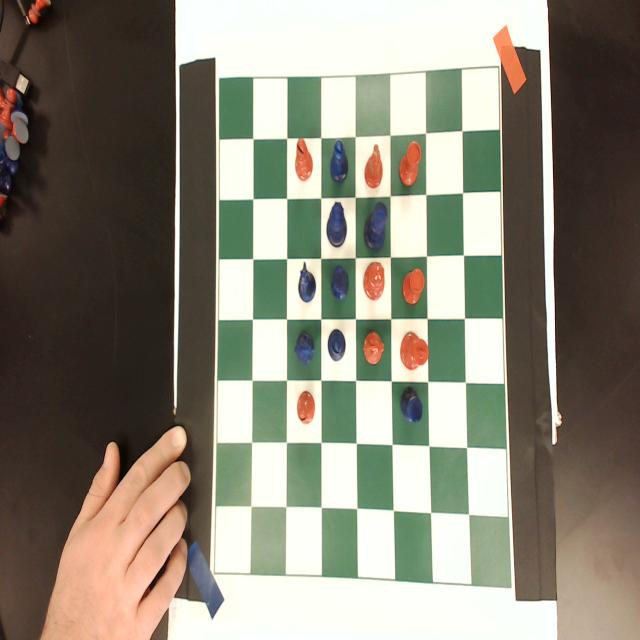B: (328, 139, 349, 187), (326, 327, 347, 364)
K: (363, 200, 389, 256)
N: (292, 328, 317, 367), (297, 261, 317, 304)
Q: (326, 200, 348, 250)
R: (399, 386, 424, 424), (329, 262, 350, 301)
b: (294, 135, 314, 183), (297, 390, 316, 426)
k: (399, 329, 431, 372)
n: (363, 140, 384, 190), (362, 329, 386, 368)
q: (362, 261, 386, 302)
r: (398, 139, 422, 190), (402, 268, 426, 306)
